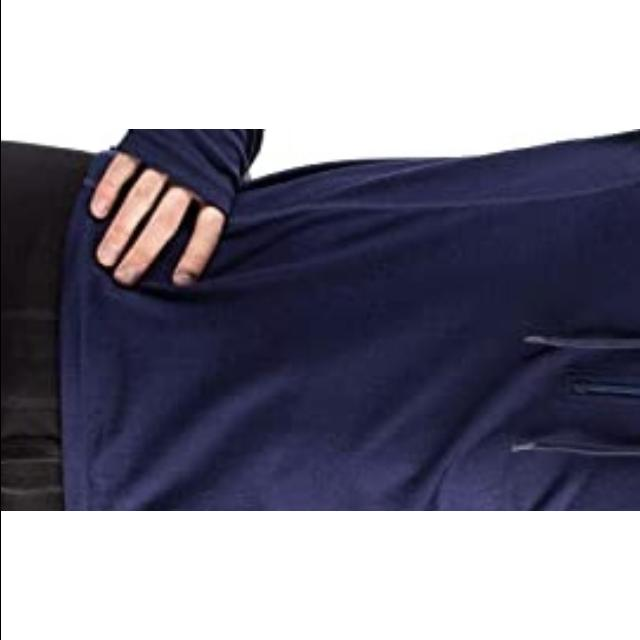wool: (68, 129, 640, 511)
